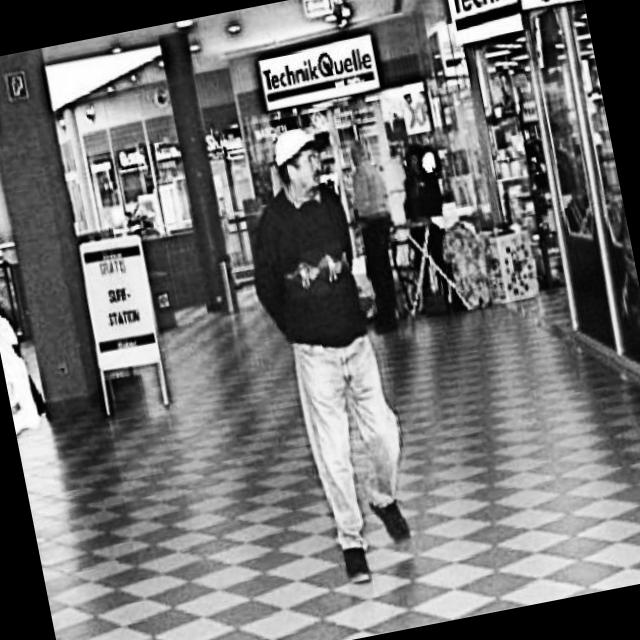Person: (228, 118, 434, 596)
